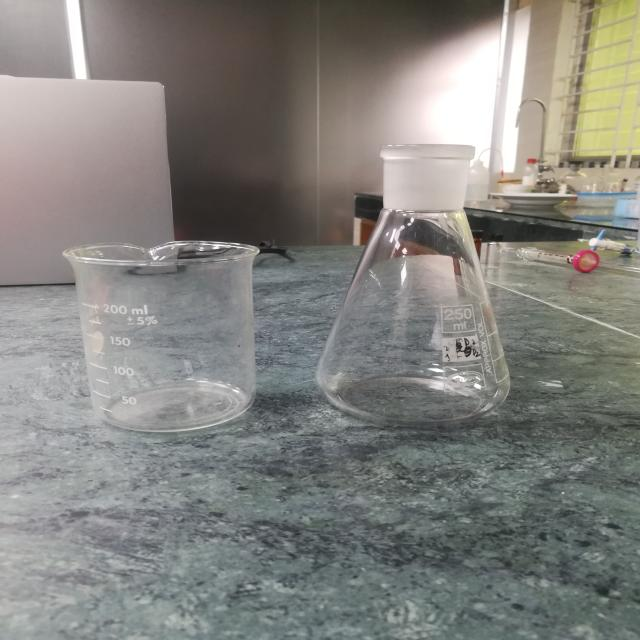Beaker: (46, 213, 294, 451)
Conical_Flask: (304, 126, 546, 436)
